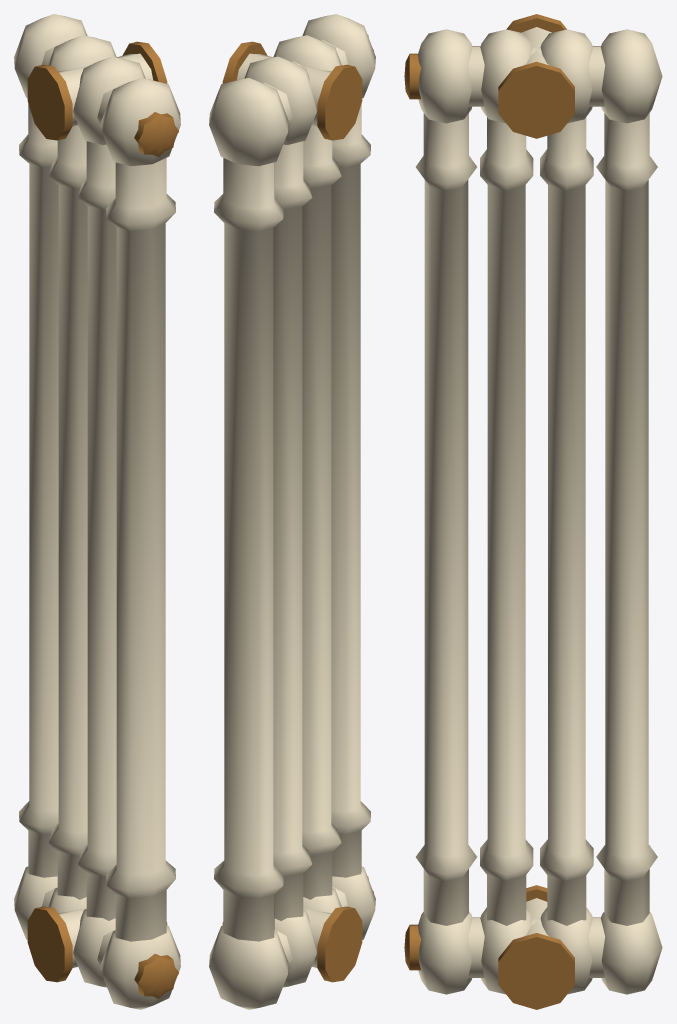
The model's file is radiator-classic.glb.
3 views of the same model, side by side, from view 1: azimuth 30°, elevation 25°; view 2: azimuth 150°, elevation 25°; view 3: azimuth 270°, elevation 25° (orthographic). The views are drawn at different scales.
Visible parts, largest first — view 1: radiator-classic; view 2: radiator-classic; view 3: radiator-classic.
Boxes of the visible parts, x1=… form: radiator-classic: x1=14, y1=14, x2=180, y2=1009; radiator-classic: x1=209, y1=14, x2=375, y2=1009; radiator-classic: x1=404, y1=14, x2=662, y2=1009.
Size of the model in its own units: 0.076 by 0.66 by 0.16.
